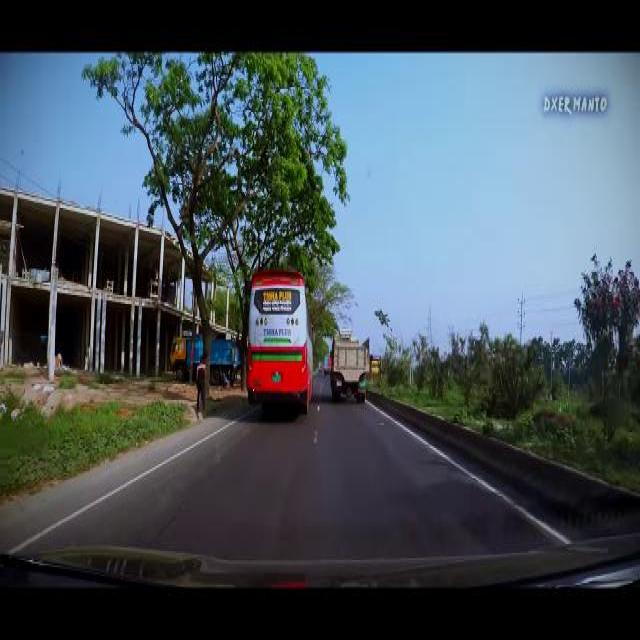11: (168, 334, 240, 382)
18: (329, 335, 368, 401)
Truck: (245, 268, 312, 411)
